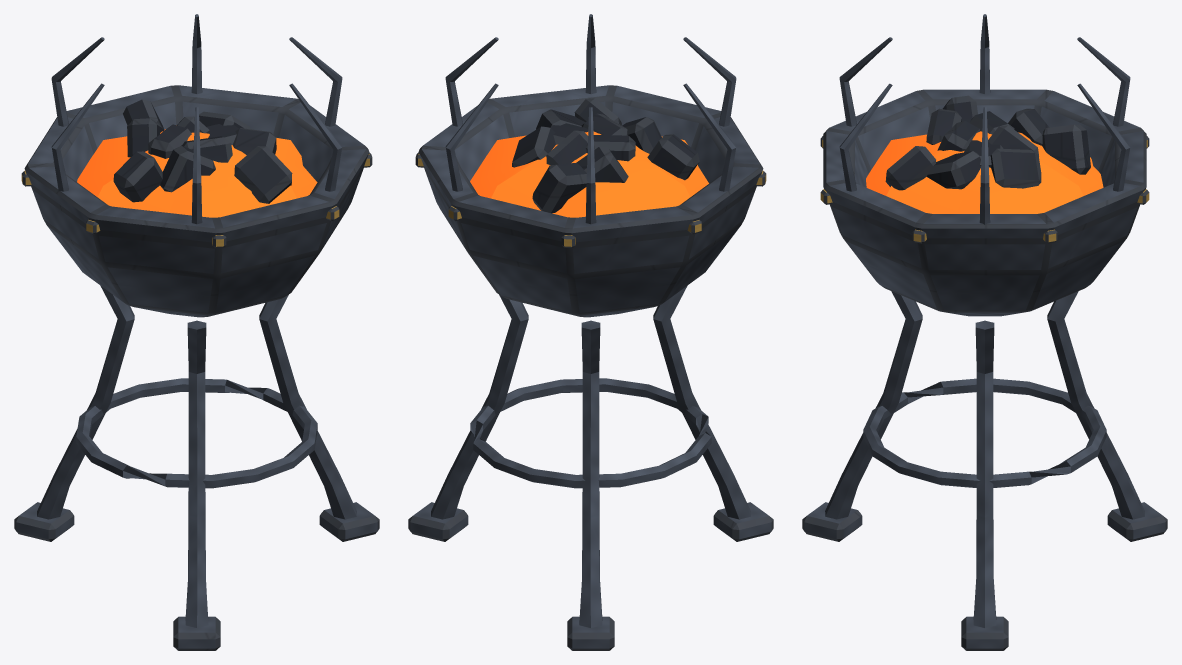
File: kit_wrought_brazier.glb
3 renders of one model, left to right at view 1: azimuth 30°, elevation 25°; view 2: azimuth 150°, elevation 25°; view 3: azimuth 270°, elevation 25°, orthographic.
Visible parts, largest first — view 1: WroughtBrazier; view 2: WroughtBrazier; view 3: WroughtBrazier.
Boxes of the visible parts, <box> form: WroughtBrazier: <box>14,14,379,650</box>; WroughtBrazier: <box>408,14,773,650</box>; WroughtBrazier: <box>802,14,1167,650</box>.
Size of the model in its own units: 1.08 by 1.65 by 1.08.
Materials: 5 (4 with a texture image).
